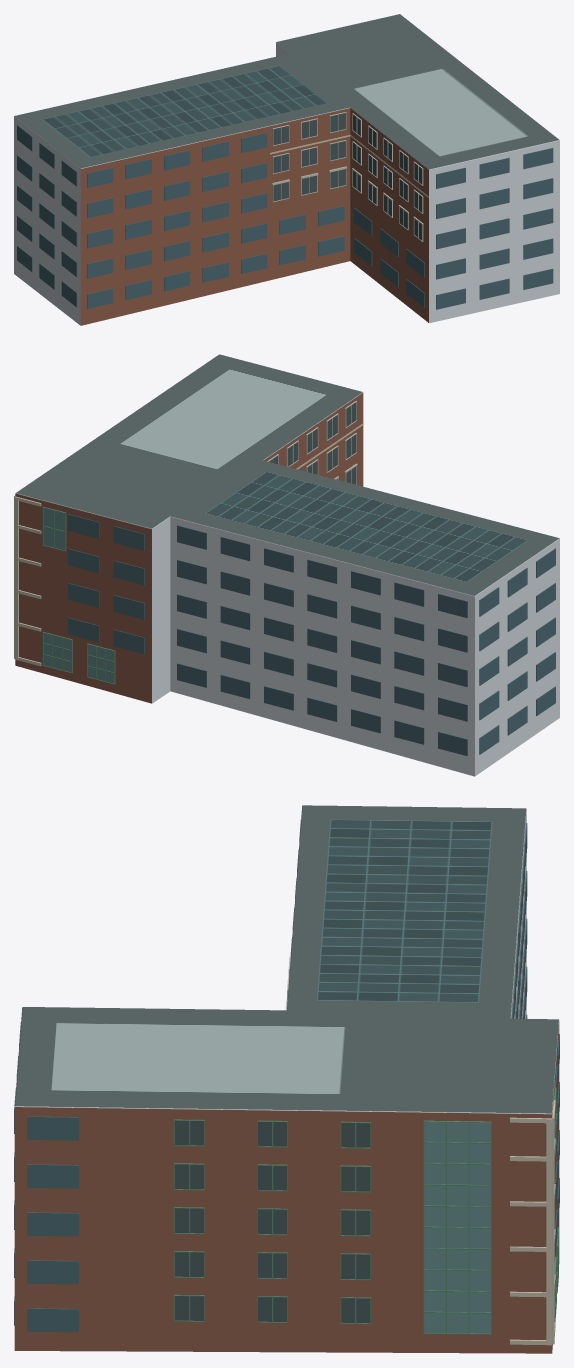
The model's file is intact.glb.
3 renders of one model, top to bottom at view 1: azimuth 30°, elevation 25°; view 2: azimuth 150°, elevation 25°; view 3: azimuth 270°, elevation 25°, orthographic. The views are drawn at different scales.
Parts seen in each view (by area): view 1: SM_1470108675_Intact_00, SM_1470108675_Intact_23, SM_1470108675_Intact_13, SM_1470108675_Intact_01, SM_1470108675_Intact_02, SM_1470108675_Intact_14; view 2: SM_1470108675_Intact_00, SM_1470108675_Intact_23, SM_1470108675_Intact_19, SM_1470108675_Intact_01, SM_1470108675_Intact_21, SM_1470108675_Intact_17, SM_1470108675_Intact_02, SM_1470108675_Intact_20, SM_1470108675_Intact_18; view 3: SM_1470108675_Intact_00, SM_1470108675_Intact_10, SM_1470108675_Intact_08, SM_1470108675_Intact_23, SM_1470108675_Intact_09, SM_1470108675_Intact_11, SM_1470108675_Intact_06, SM_1470108675_Intact_07, SM_1470108675_Intact_17.
Boxes of the visible parts, left/top/right/bottom form: SM_1470108675_Intact_00: left=14, top=14, right=559, bottom=325; SM_1470108675_Intact_23: left=17, top=125, right=553, bottom=309; SM_1470108675_Intact_13: left=273, top=113, right=345, bottom=201; SM_1470108675_Intact_01: left=353, top=114, right=422, bottom=240; SM_1470108675_Intact_02: left=352, top=113, right=423, bottom=241; SM_1470108675_Intact_14: left=272, top=112, right=346, bottom=202; SM_1470108675_Intact_00: left=15, top=354, right=559, bottom=776; SM_1470108675_Intact_23: left=68, top=514, right=555, bottom=756; SM_1470108675_Intact_19: left=43, top=632, right=115, bottom=683; SM_1470108675_Intact_01: left=269, top=402, right=356, bottom=484; SM_1470108675_Intact_21: left=43, top=508, right=65, bottom=550; SM_1470108675_Intact_17: left=14, top=496, right=18, bottom=660; SM_1470108675_Intact_02: left=267, top=401, right=356, bottom=484; SM_1470108675_Intact_20: left=42, top=632, right=114, bottom=684; SM_1470108675_Intact_18: left=18, top=497, right=41, bottom=666; SM_1470108675_Intact_00: left=14, top=805, right=559, bottom=1353; SM_1470108675_Intact_10: left=424, top=1120, right=490, bottom=1333; SM_1470108675_Intact_08: left=174, top=1119, right=370, bottom=1323; SM_1470108675_Intact_23: left=14, top=820, right=559, bottom=1332; SM_1470108675_Intact_09: left=174, top=1119, right=370, bottom=1323; SM_1470108675_Intact_11: left=423, top=1120, right=491, bottom=1334; SM_1470108675_Intact_06: left=546, top=1118, right=552, bottom=1345; SM_1470108675_Intact_07: left=510, top=1117, right=546, bottom=1344; SM_1470108675_Intact_17: left=552, top=1116, right=554, bottom=1344.
Bounding box in the file's own units: 2.2 × 0.8316 × 1.64.
Materials: 12 (1 with a texture image).
